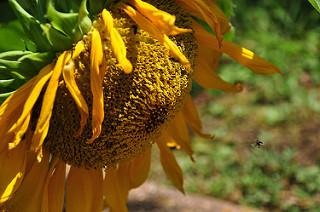sunflower: (0, 0, 285, 212)
